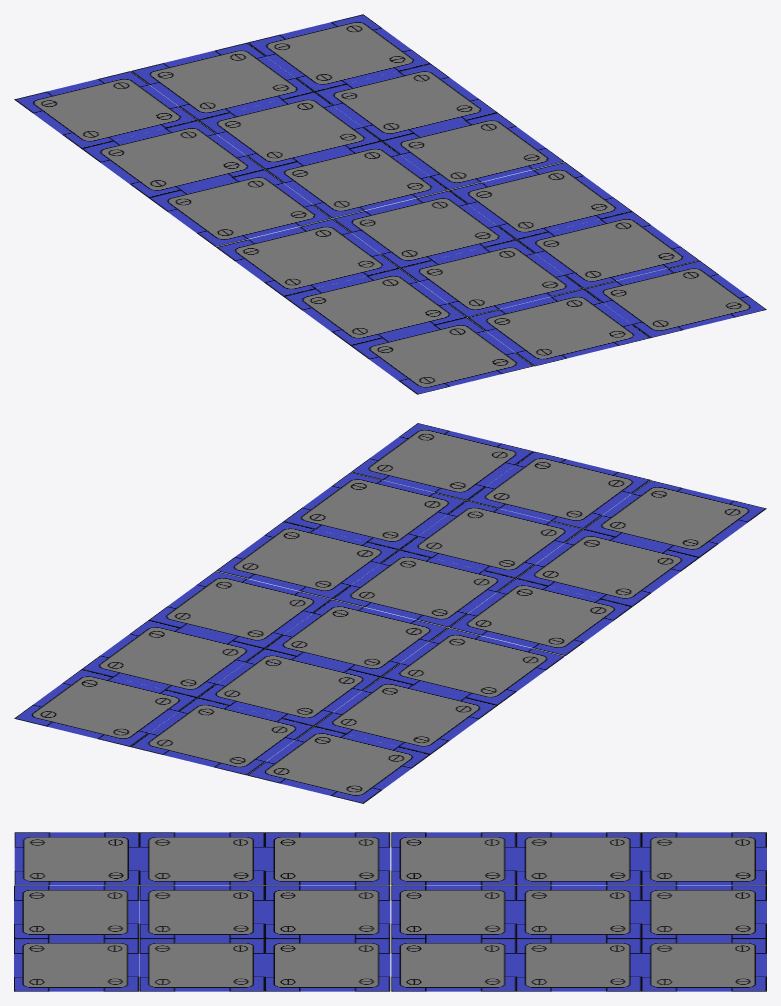
File: MidtermMap.obj
3 views of the same model, one above another, from view 1: azimuth 30°, elevation 25°; view 2: azimuth 150°, elevation 25°; view 3: azimuth 270°, elevation 25° (orthographic). The views are drawn at different scales.
Parts seen in each view (by area): view 1: Plane.015, Plane.012, Plane.005, Plane.003, Plane.011, Plane.002, Plane.017, Plane.009, Plane.006, Plane.004, Plane.001, Plane.014 (+6 smaller); view 2: Plane.014, Plane.015, Plane.010, Plane.009, Plane.005, Plane.002, Plane.012, Plane.008, Plane.004, Plane.001, Plane.007, Plane.006 (+6 smaller); view 3: Plane.016, Plane.013, Plane.010, Plane.017, Plane.015, Plane.014, Plane.012, Plane.011, Plane.009, Plane.008, Plane.007, Plane.006 (+6 smaller).
Part boxes in pixels (bbox=[...]): Plane.015: bbox=[14, 71, 196, 148]; Plane.012: bbox=[265, 141, 447, 218]; Plane.005: bbox=[467, 289, 650, 366]; Plane.003: bbox=[333, 190, 515, 267]; Plane.011: bbox=[382, 112, 564, 189]; Plane.002: bbox=[216, 219, 398, 296]; Plane.017: bbox=[148, 169, 331, 246]; Plane.009: bbox=[247, 14, 429, 91]; Plane.006: bbox=[584, 260, 766, 337]; Plane.004: bbox=[400, 239, 582, 316]; Plane.001: bbox=[283, 268, 465, 345]; Plane.014: bbox=[131, 42, 313, 119]; Plane.014: bbox=[131, 698, 313, 775]; Plane.015: bbox=[247, 726, 430, 803]; Plane.010: bbox=[81, 620, 264, 697]; Plane.009: bbox=[14, 669, 196, 746]; Plane.005: bbox=[467, 451, 650, 528]; Plane.002: bbox=[449, 578, 631, 655]; Plane.012: bbox=[265, 599, 447, 676]; Plane.008: bbox=[216, 521, 398, 598]; Plane.004: bbox=[400, 501, 582, 578]; Plane.001: bbox=[516, 529, 699, 606]; Plane.007: bbox=[283, 472, 466, 549]; Plane.006: bbox=[351, 423, 533, 500]; Plane.016: bbox=[516, 832, 641, 885]; Plane.013: bbox=[516, 885, 641, 938]; Plane.010: bbox=[516, 938, 641, 991]; Plane.017: bbox=[391, 832, 516, 885]; Plane.015: bbox=[641, 832, 766, 885]; Plane.014: bbox=[641, 885, 766, 938]; Plane.012: bbox=[391, 885, 516, 938]; Plane.011: bbox=[391, 938, 516, 991]; Plane.009: bbox=[641, 938, 766, 991]; Plane.008: bbox=[265, 938, 390, 991]; Plane.007: bbox=[139, 938, 264, 991]; Plane.006: bbox=[14, 938, 139, 991].
Size of the model in its own units: 6.01 by 0 by 12.02.
2 materials, 2 textured.
